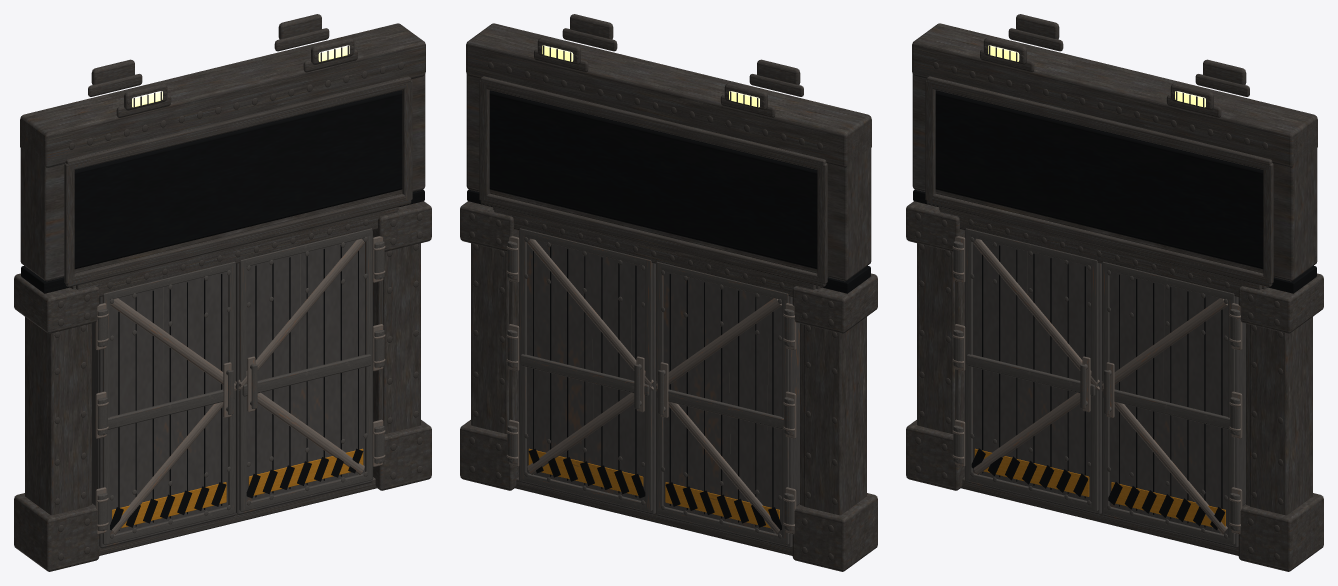
File: main_gate.glb
3 renders of one model, left to right at view 1: azimuth 30°, elevation 25°; view 2: azimuth 150°, elevation 25°; view 3: azimuth 330°, elevation 25°, orthographic.
Parts seen in each view (by area): view 1: Main Frame, Right Leaf, Left Leaf; view 2: Main Frame, Right Leaf, Left Leaf; view 3: Main Frame, Left Leaf, Right Leaf.
Boxes of the visible parts, x1=… form: Main Frame: x1=14, y1=14, x2=431, y2=571; Right Leaf: x1=236, y1=228, x2=385, y2=514; Left Leaf: x1=92, y1=261, x2=236, y2=548; Main Frame: x1=460, y1=14, x2=877, y2=571; Right Leaf: x1=506, y1=228, x2=655, y2=514; Left Leaf: x1=655, y1=261, x2=799, y2=548; Main Frame: x1=906, y1=14, x2=1323, y2=571; Left Leaf: x1=952, y1=228, x2=1101, y2=514; Right Leaf: x1=1101, y1=261, x2=1245, y2=548.
Bounding box in the file's own units: 9.68 × 11.06 × 1.8.
Materials: 7 (6 with a texture image).
